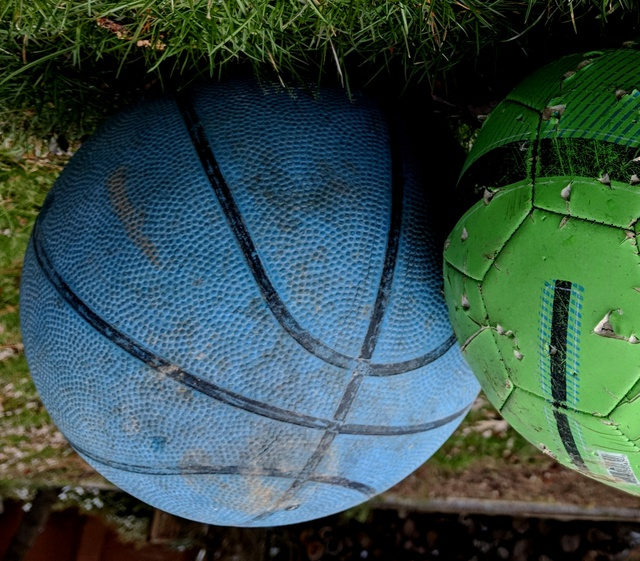ball: (19, 94, 486, 528)
